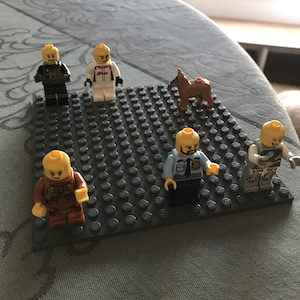Lego: (238, 118, 298, 200), (27, 150, 90, 225), (160, 126, 217, 205), (82, 42, 122, 106), (33, 42, 71, 106)
